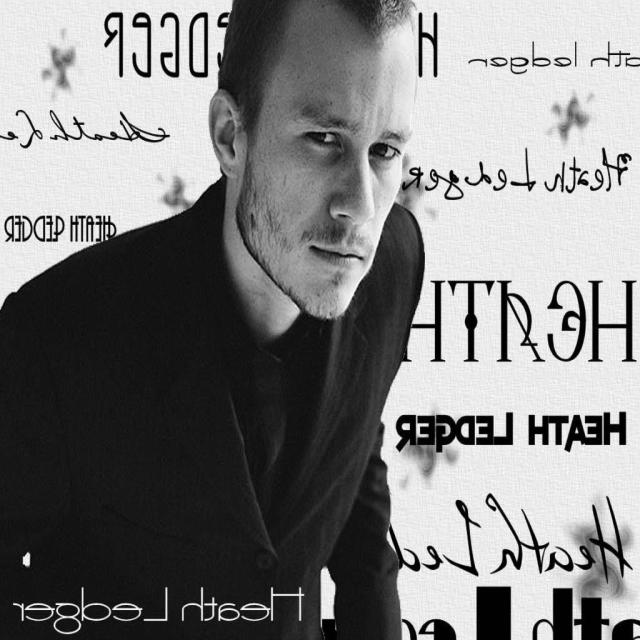no-earmuff: (200, 72, 261, 205)
